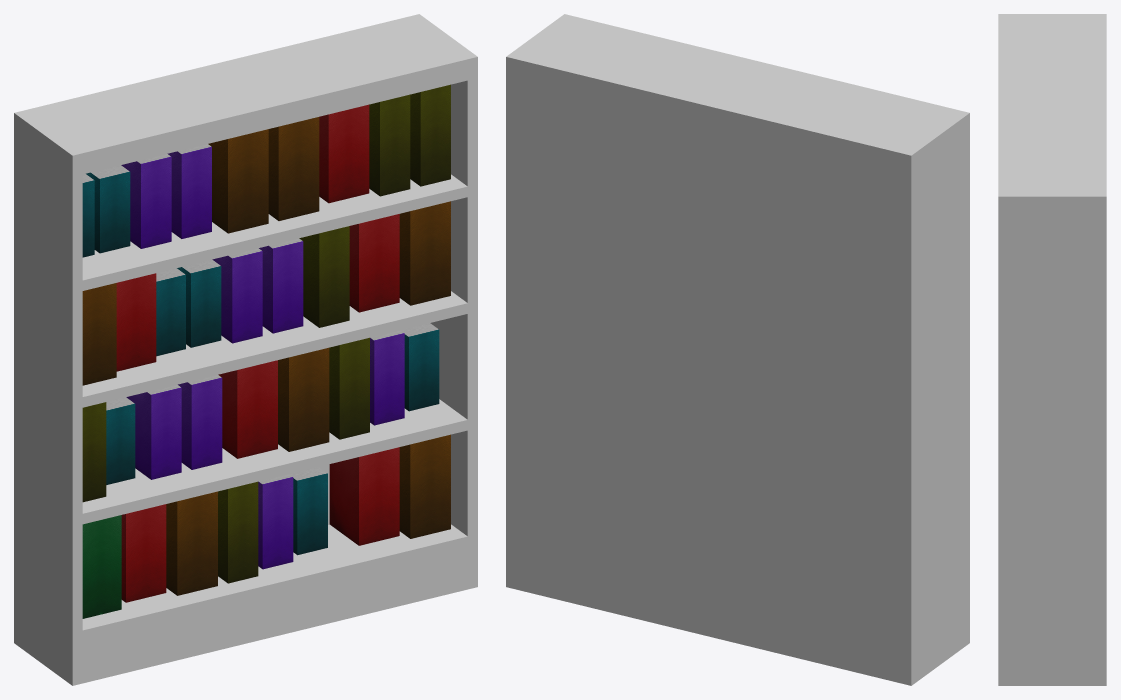
File: Bookcase_1-1.fbx
3 views of the same model, side by side, from view 1: azimuth 30°, elevation 25°; view 2: azimuth 150°, elevation 25°; view 3: azimuth 270°, elevation 25° (orthographic). The views are drawn at different scales.
Parts seen in each view (by area): view 1: Bookcase_1-1, Bookcase_1-1_Books-4, Bookcase_1-1_Books-1, Bookcase_1-1_Books-3, Bookcase_1-1_Books-2; view 2: Bookcase_1-1; view 3: Bookcase_1-1.
Part boxes in pixels (bbox=[...]): Bookcase_1-1: bbox=[14, 14, 477, 685]; Bookcase_1-1_Books-4: bbox=[82, 84, 450, 257]; Bookcase_1-1_Books-1: bbox=[82, 434, 450, 618]; Bookcase_1-1_Books-3: bbox=[82, 201, 450, 385]; Bookcase_1-1_Books-2: bbox=[82, 323, 439, 502]; Bookcase_1-1: bbox=[506, 14, 969, 685]; Bookcase_1-1: bbox=[998, 14, 1106, 685].
Size of the model in its own units: 400 by 500 by 100.
Materials: 2 (1 with a texture image).
